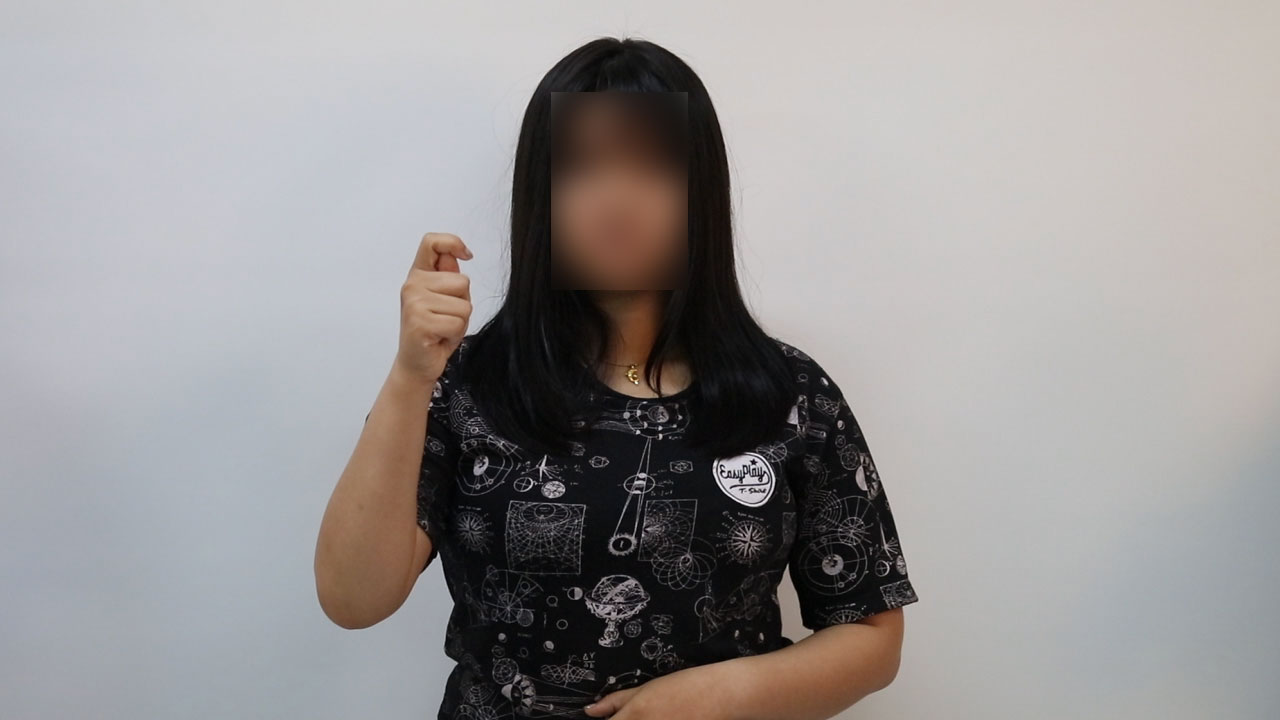or: (382, 213, 487, 382)
